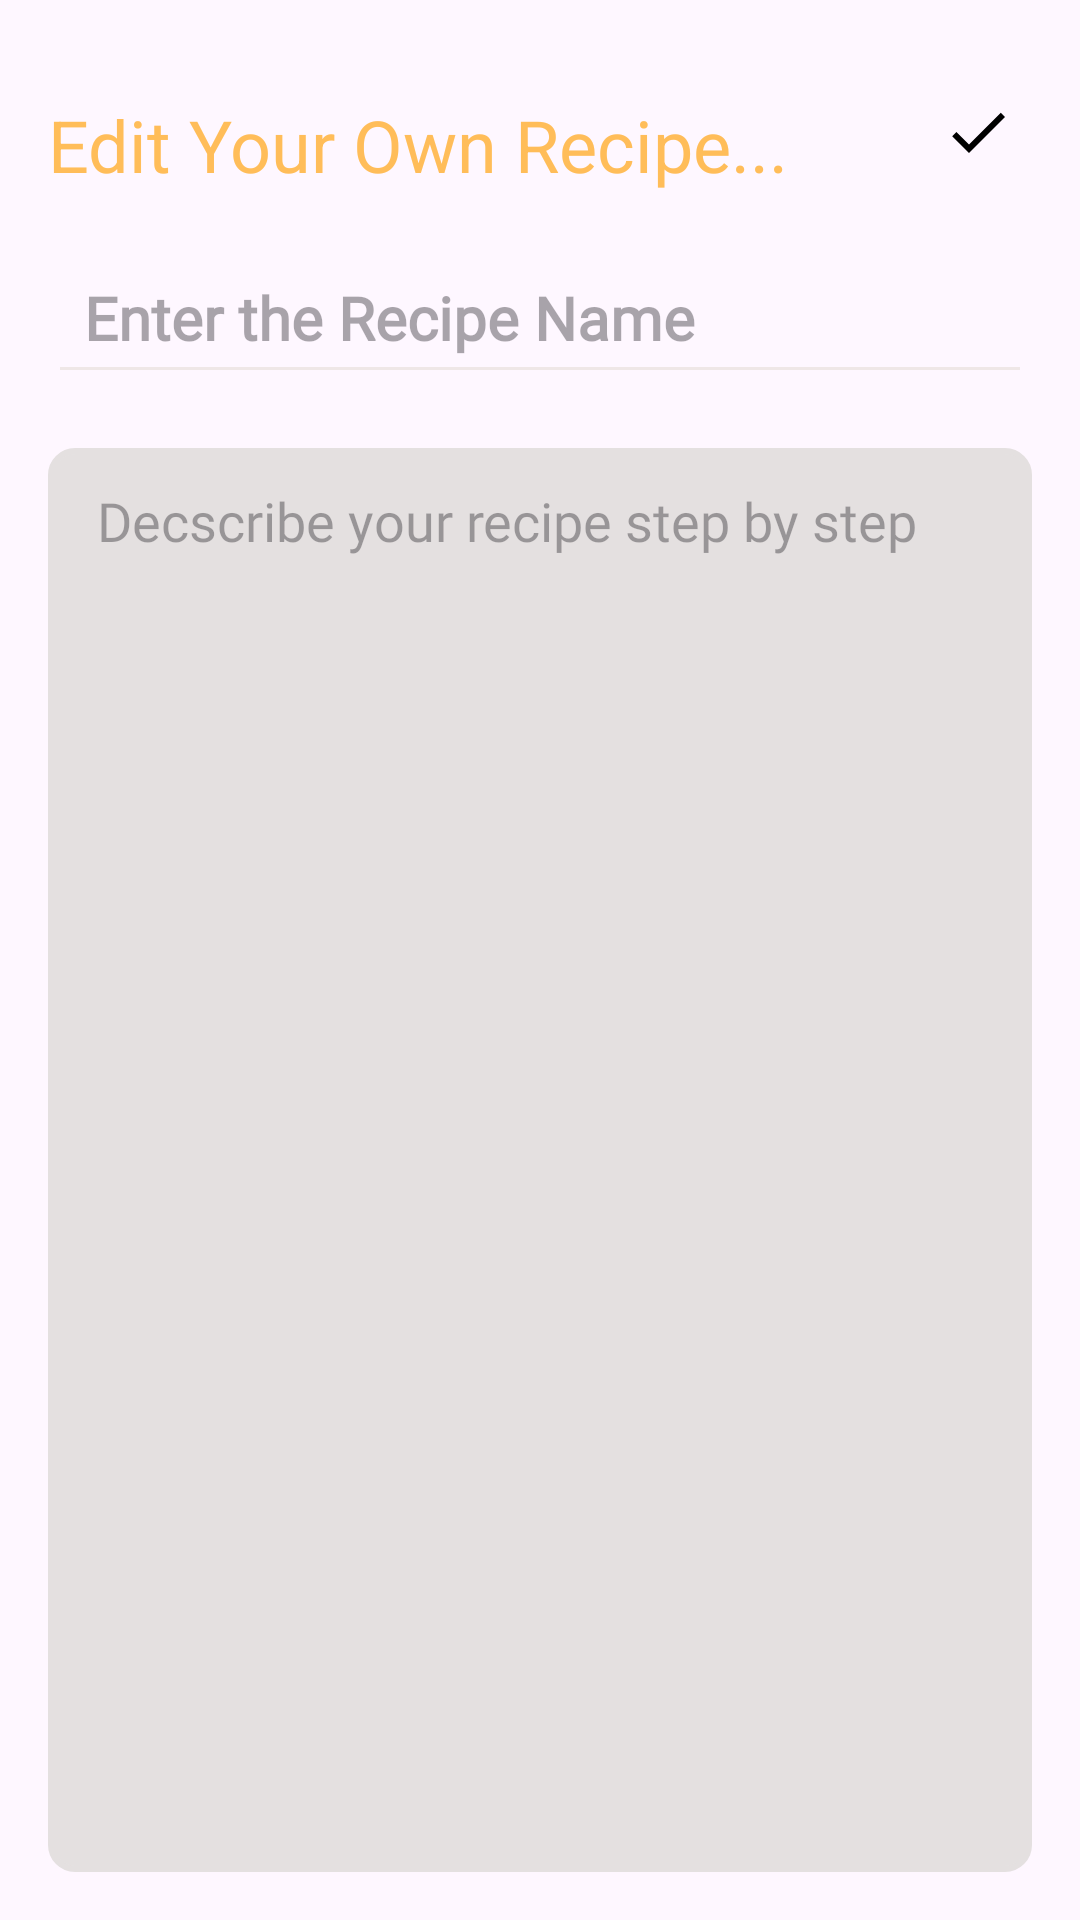

Screen size 1080*1920. Icon name, then its center in pixels as (x,y):
done: (978,133)
